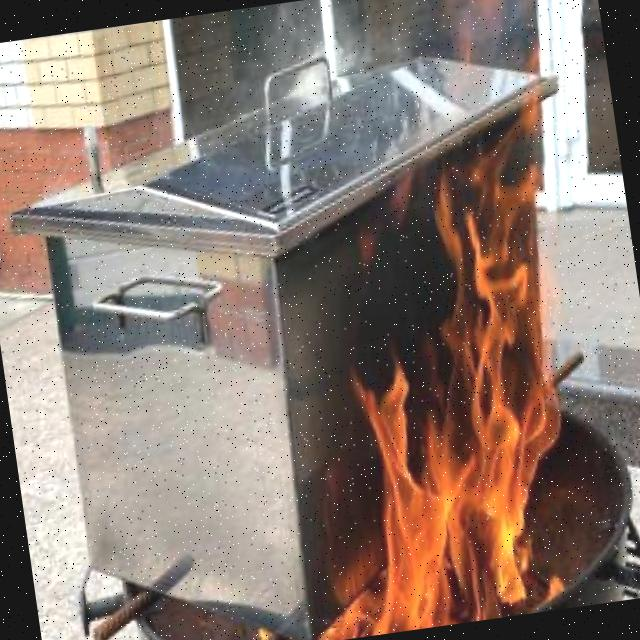fire: (309, 157, 617, 636)
